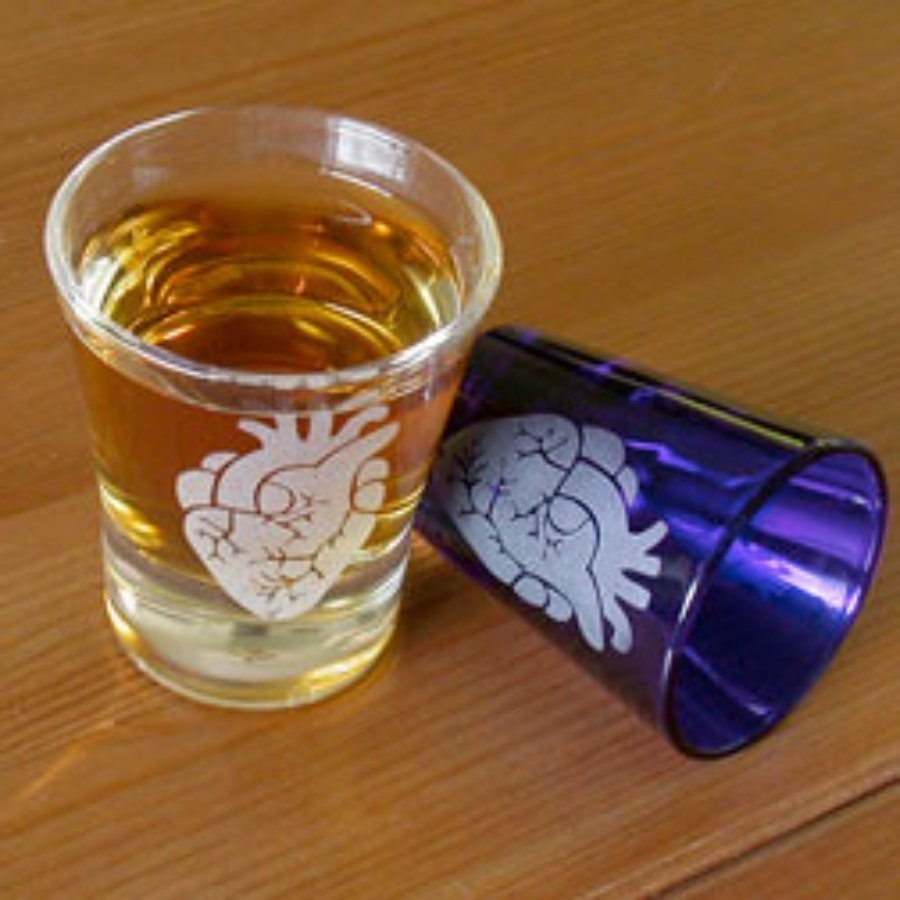whiskey: (42, 100, 480, 702)
